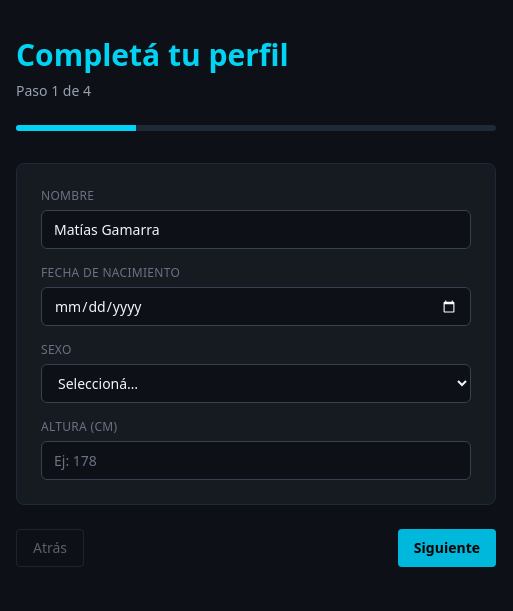
Test: Onboarding › bloquea 'Siguiente' si faltan campos obligatorios
Click the button "Siguiente" at (447, 548), box left=398, top=529, right=496, bottom=567
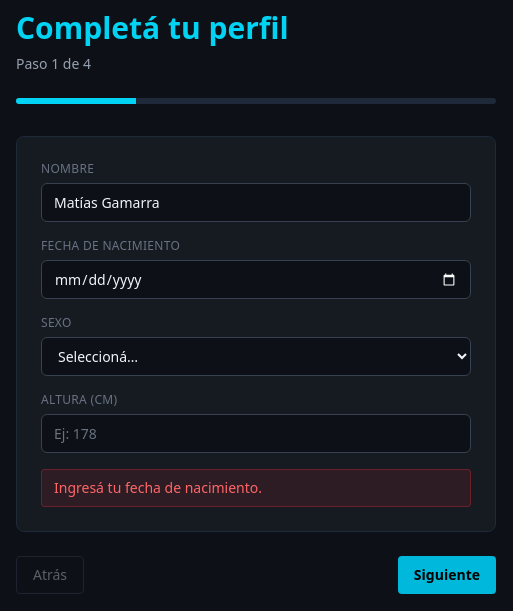
Check: the text "Paso 1 de 4" is shown, box left=16, top=54, right=91, bottom=73
Check: the text "Ingresá tu fecha de nacimiento." is shown, box left=41, top=469, right=471, bottom=507
